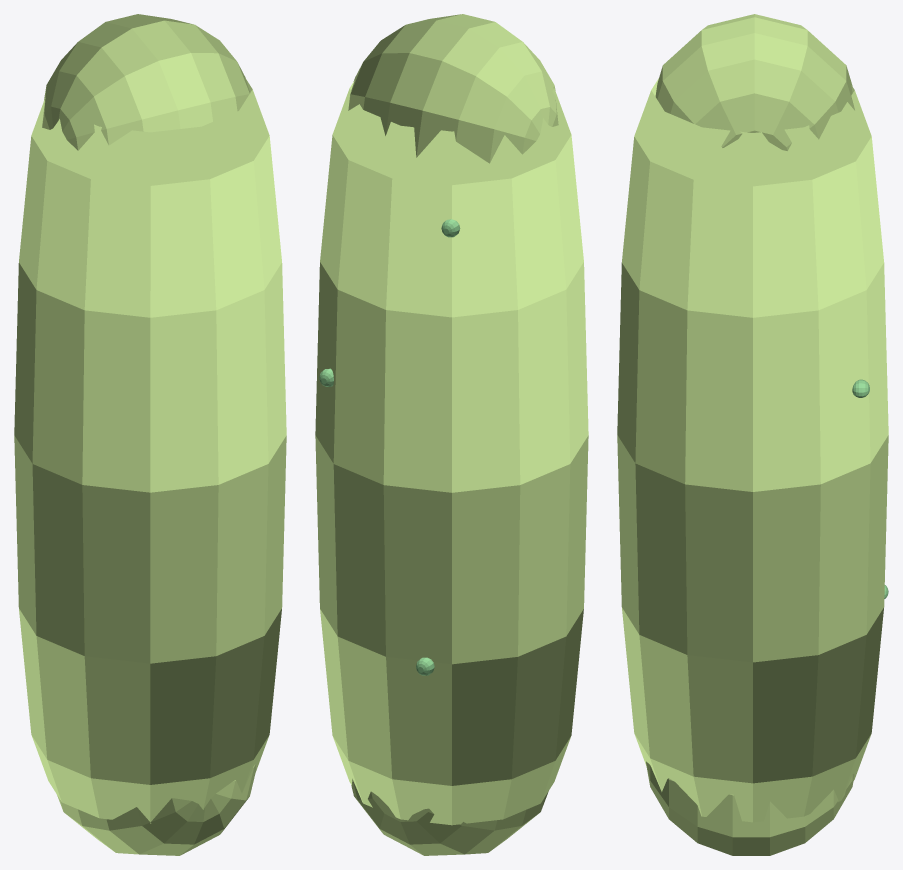
Rendered from pickle.dae.
The picture shows the model from 3 angles, left to right: view 1: azimuth 30°, elevation 25°; view 2: azimuth 150°, elevation 25°; view 3: azimuth 270°, elevation 25°; orthographic projection.
Visible parts, largest first — view 1: group846859389, group596407863, group1378869470; view 2: group846859389, group596407863, group1378869470; view 3: group846859389, group596407863, group1378869470.
Part boxes in pixels (box(x1,y1,x2,y2)): group846859389: box(14, 78, 286, 823); group596407863: box(42, 14, 249, 150); group1378869470: box(57, 764, 256, 855); group846859389: box(315, 80, 588, 825); group596407863: box(348, 14, 558, 163); group1378869470: box(351, 779, 548, 855); group846859389: box(617, 78, 888, 822); group596407863: box(655, 14, 854, 150); group1378869470: box(646, 761, 854, 855).
Size of the model in its own units: 0.29 by 0.29 by 0.9665.
